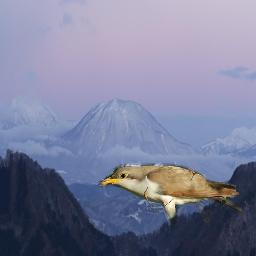Cuckoo: (98, 163, 242, 231)
